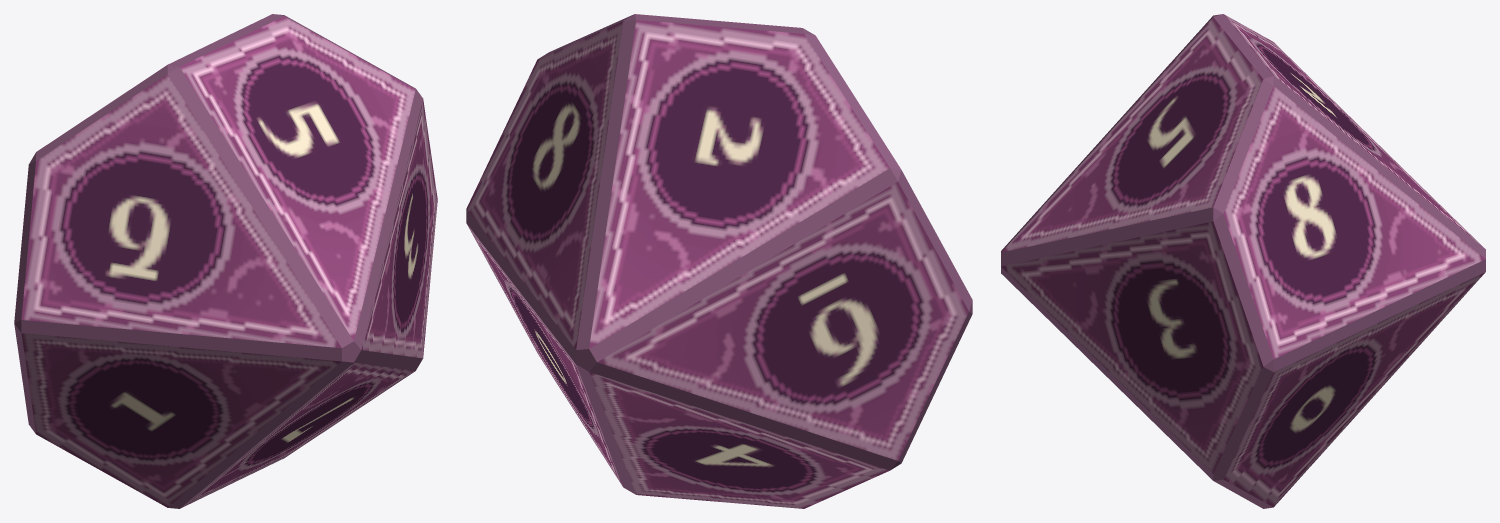
3 renders of one model, left to right at view 1: azimuth 30°, elevation 25°; view 2: azimuth 150°, elevation 25°; view 3: azimuth 270°, elevation 25°, orthographic. The views are drawn at different scales.
Bounding box in the file's own units: 188 × 179 × 183.
Materials: 1 (1 with a texture image).
